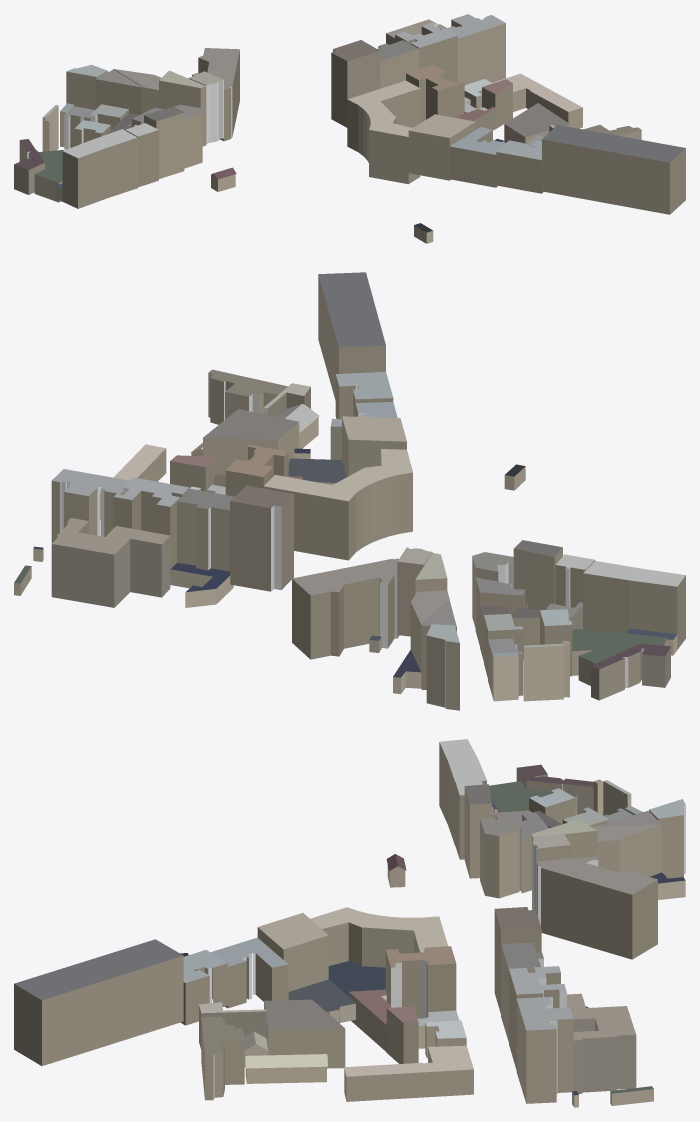
3 views of the same model, one above another, from view 1: azimuth 30°, elevation 25°; view 2: azimuth 150°, elevation 25°; view 3: azimuth 270°, elevation 25° (orthographic). The views are drawn at different scales.
Parts seen in each view (by area): view 1: tuile; view 2: tuile; view 3: tuile.
Boxes of the visible parts, bbox=[...] form: tuile: bbox=[14, 14, 685, 243]; tuile: bbox=[14, 272, 685, 710]; tuile: bbox=[14, 739, 685, 1107].
Size of the model in its own units: 258 by 40.12 by 240.
